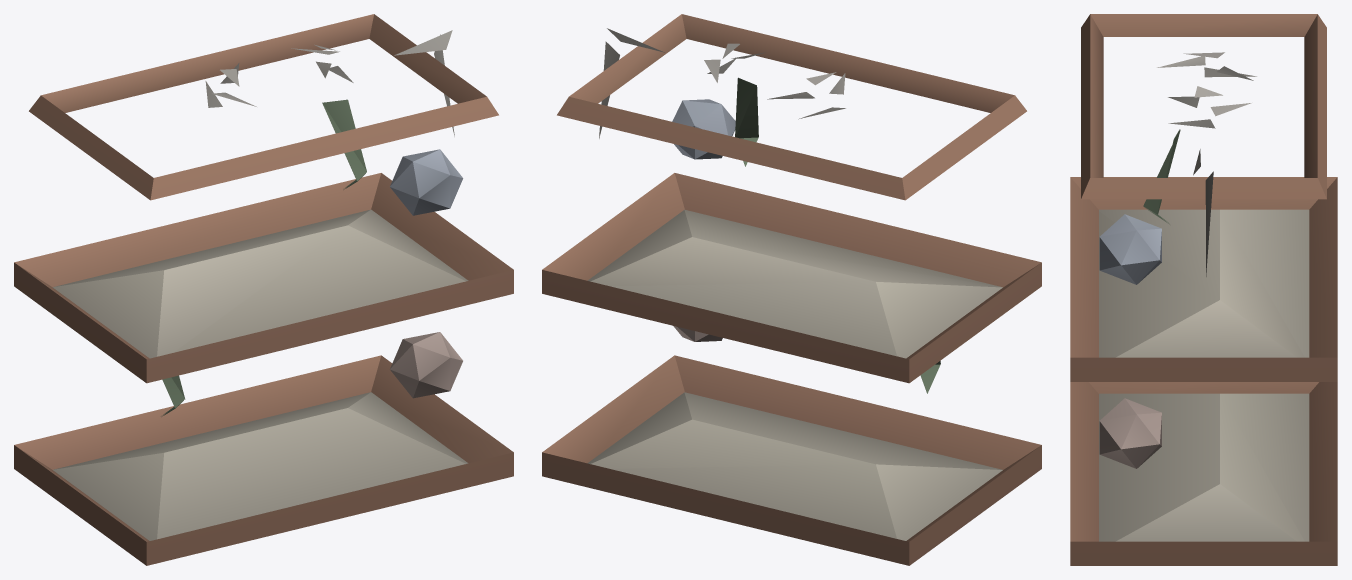
The model's file is pots.lod.glb.
3 views of the same model, side by side, from view 1: azimuth 30°, elevation 25°; view 2: azimuth 150°, elevation 25°; view 3: azimuth 270°, elevation 25° (orthographic).
Parts seen in each view (by area): view 1: pots; view 2: pots; view 3: pots.
Boxes of the visible parts, x1,y1,x2,y2 form: pots: [14, 14, 513, 565]; pots: [542, 14, 1041, 565]; pots: [1070, 14, 1337, 565].
Size of the model in its own units: 0.8184 by 0.86 by 0.5.
